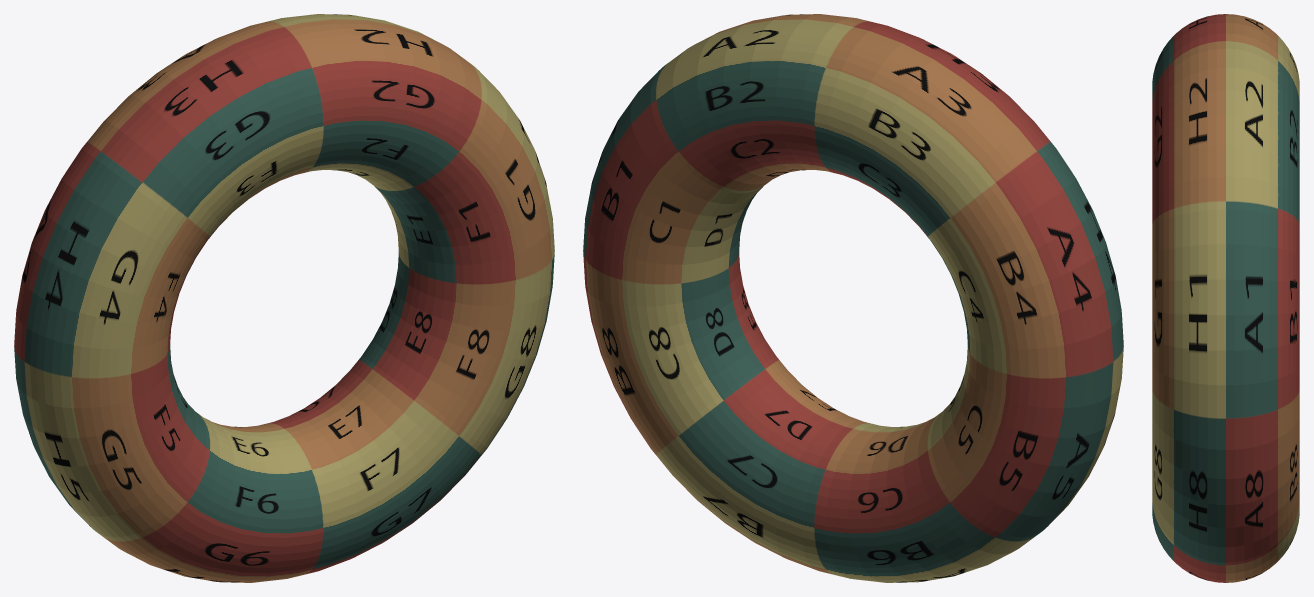
The model's file is texture_torus_R22_r25.glb.
3 renders of one model, left to right at view 1: azimuth 30°, elevation 25°; view 2: azimuth 150°, elevation 25°; view 3: azimuth 270°, elevation 25°, orthographic. The views are drawn at different scales.
Parts seen in each view (by area): view 1: world; view 2: world; view 3: world.
Part boxes in pixels (left/top/right/bottom): world: left=14, top=14, right=554, bottom=582; world: left=583, top=14, right=1123, bottom=582; world: left=1152, top=14, right=1299, bottom=582.
Bounding box in the file's own units: 33.33 × 33.27 × 8.65.
Materials: 1 (1 with a texture image).
